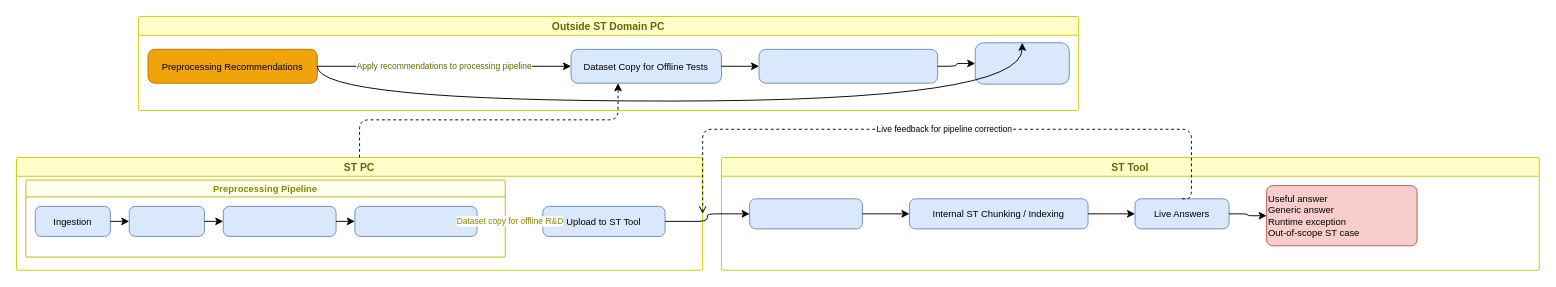
This 1556x287 diagram has some shape labels left out. The centre of each missing label's shape, as x and y in pixels:
"Benchmark P@k • MRR • Latency" belongs at point 1021,63.
"Cleaning" belongs at point 166,220.
"Experimental Parent-Child Chunking" belongs at point 848,65.
"Metadata Enrichment" belongs at point 279,220.
"ST-ready JSON Export" belongs at point 415,220.
"Upload Received" belongs at point 805,213.
